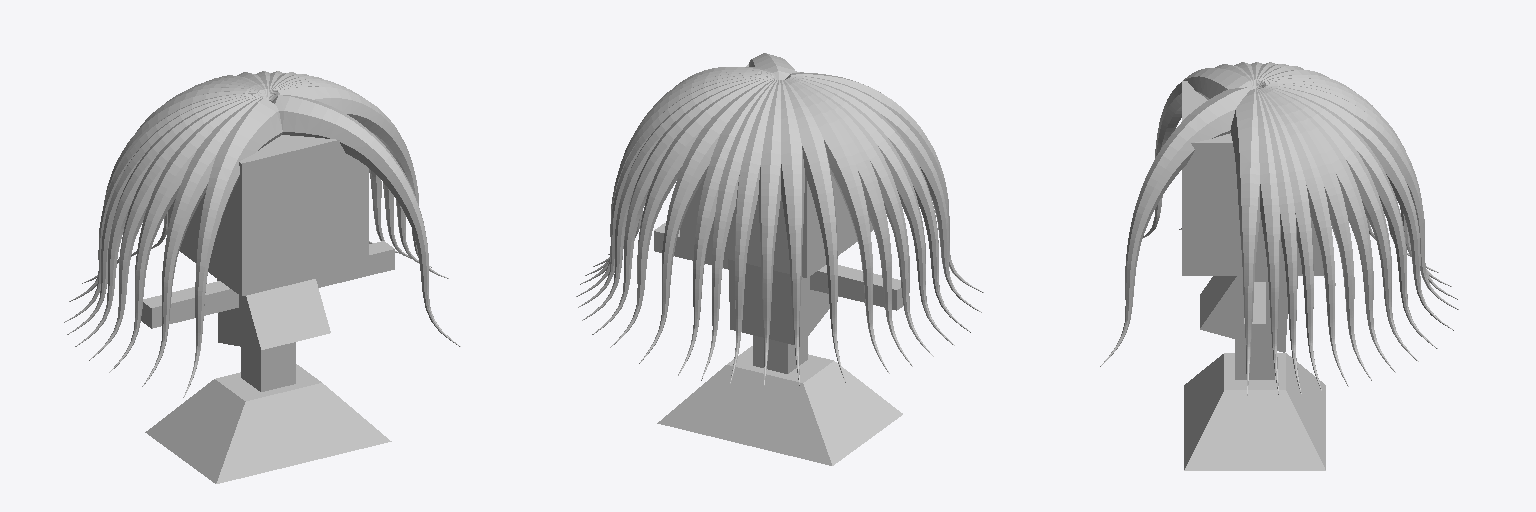
Rendered from StanjeGril.obj.
3 renders of one model, left to right at view 1: azimuth 30°, elevation 25°; view 2: azimuth 150°, elevation 25°; view 3: azimuth 270°, elevation 25°, orthographic.
Parts seen in each view (by area): view 1: Cube; view 2: Cube; view 3: Cube.
Boxes of the visible parts, x1=… form: Cube: x1=64, y1=71, x2=460, y2=483; Cube: x1=576, y1=53, x2=983, y2=465; Cube: x1=1100, y1=62, x2=1458, y2=470.
Bounding box in the file's own units: 1.92 × 1.79 × 1.69.